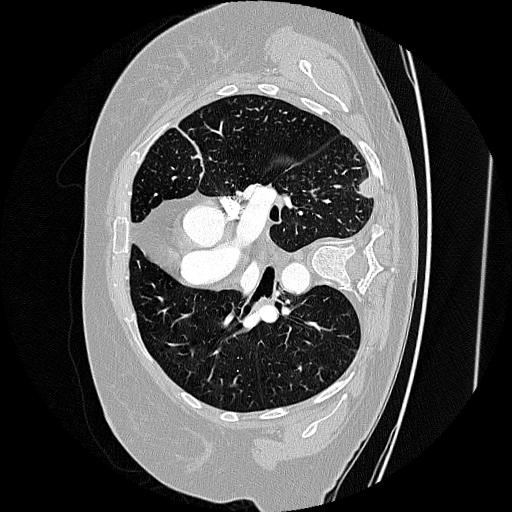nodule: (355, 175, 380, 200)
